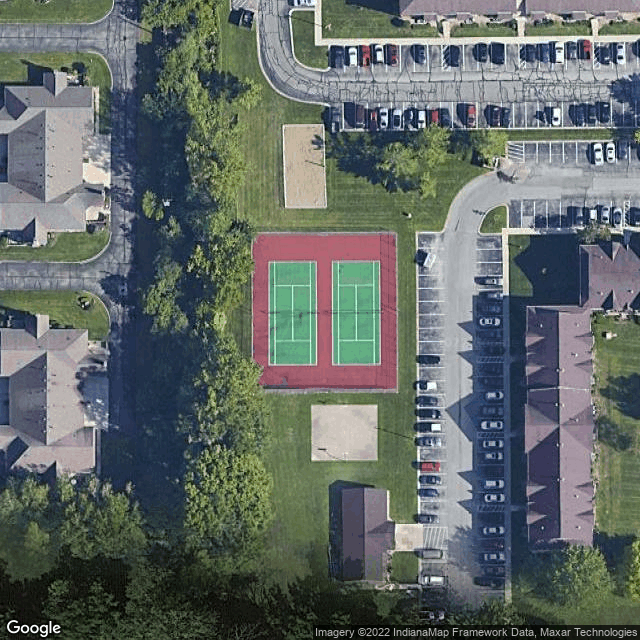Court: (329, 260, 383, 367), (266, 259, 318, 366)
